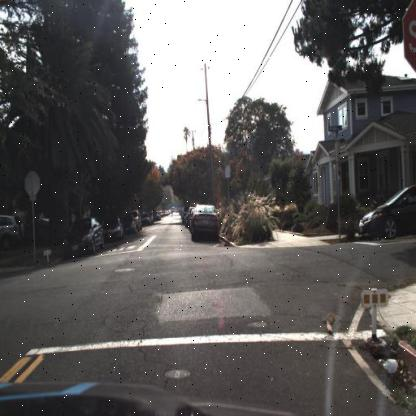car: (354, 179, 415, 244), (357, 184, 416, 241), (61, 217, 103, 257), (190, 201, 221, 241), (1, 215, 25, 246), (102, 213, 122, 240), (120, 212, 136, 235), (132, 208, 143, 232)
